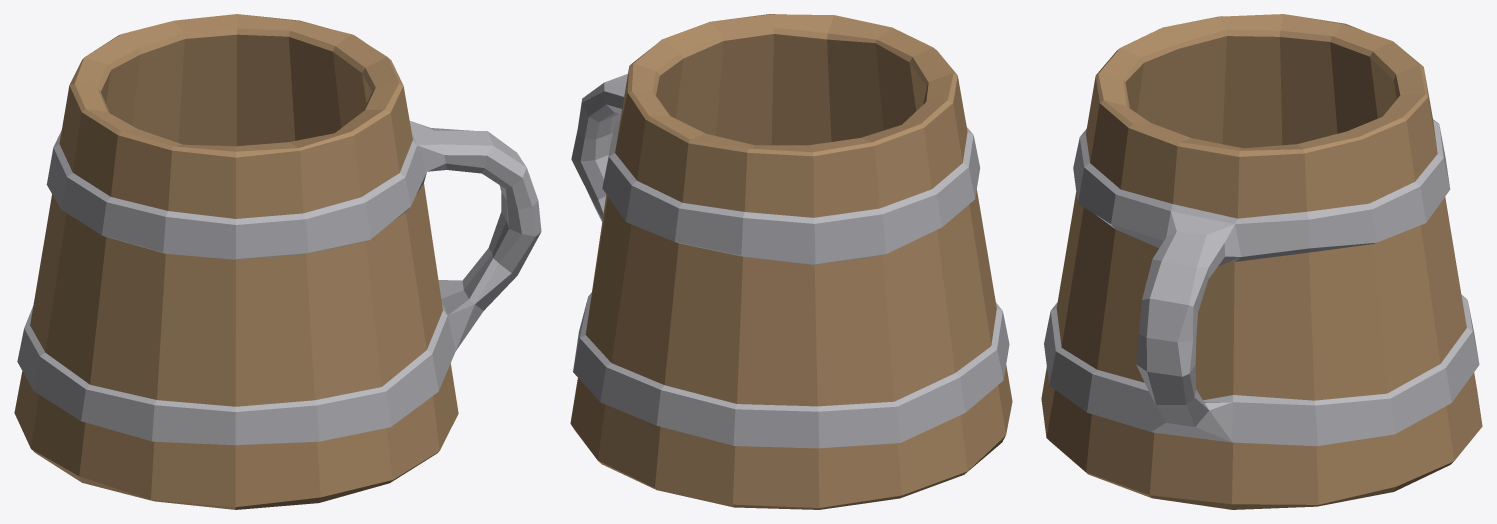
The model's file is Mug_Wood.glb.
The picture shows the model from 3 angles, left to right: view 1: azimuth 30°, elevation 25°; view 2: azimuth 150°, elevation 25°; view 3: azimuth 270°, elevation 25°; orthographic projection.
Parts seen in each view (by area): view 1: Mug Detail; view 2: Mug Detail; view 3: Mug Detail.
Boxes of the visible parts, left/top/right/bottom form: Mug Detail: left=14, top=14, right=541, bottom=509; Mug Detail: left=570, top=14, right=1012, bottom=509; Mug Detail: left=1041, top=14, right=1482, bottom=509.
Bounding box in the file's own units: 0.2243 × 0.16 × 0.1903.
